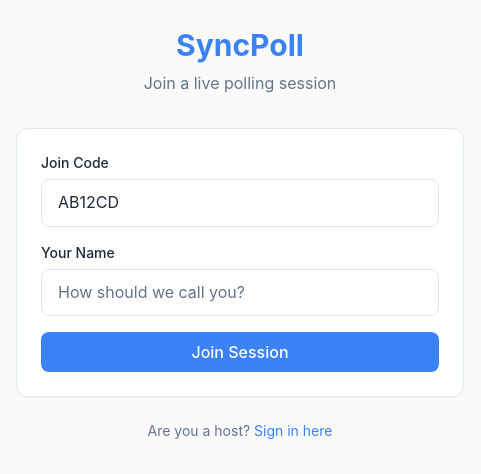
it: JoinPage › refuses to submit without a display name
The image size is (481, 474).
What coordinates should you click on to do the following:
click the button "Join Session"
I would click on:
 (240, 352)
Its box is [41, 332, 439, 372].
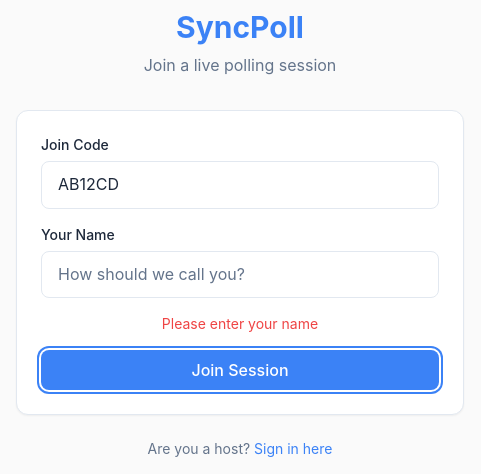
Result: the text "Please enter your name" is shown at [162, 315, 318, 332]
